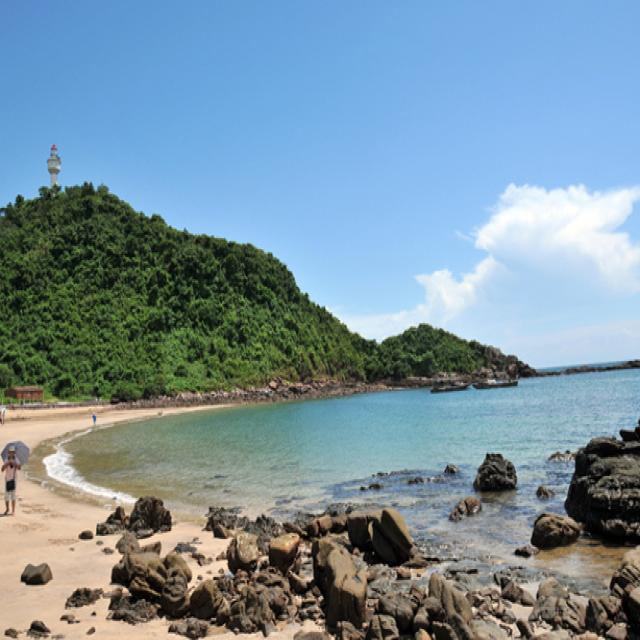island: (0, 137, 534, 407)
